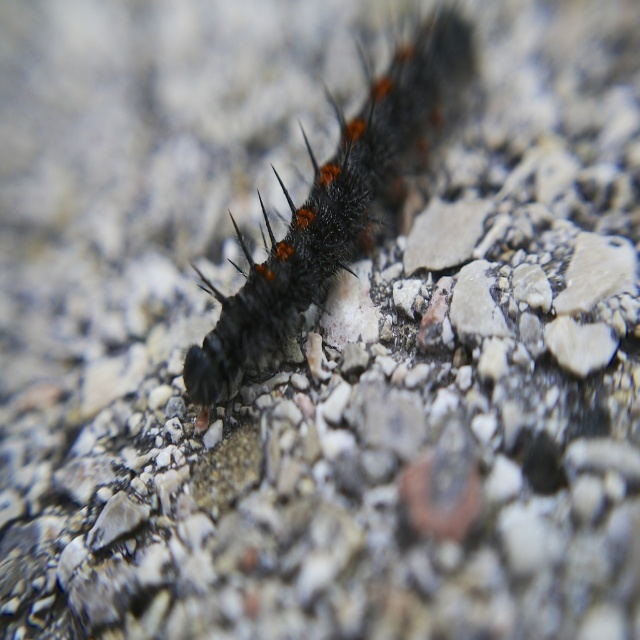Centipede: (180, 0, 483, 405)
